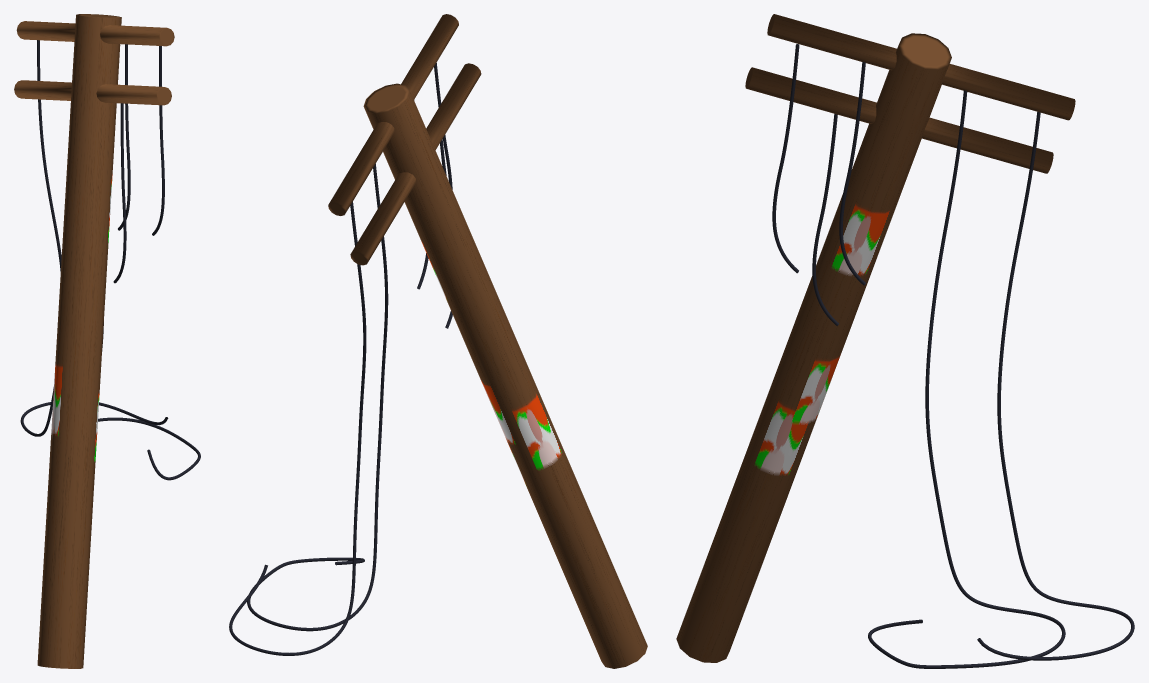
Rendered from poster_ng_kuryente.fbx.
3 views of the same model, side by side, from view 1: azimuth 30°, elevation 25°; view 2: azimuth 150°, elevation 25°; view 3: azimuth 270°, elevation 25° (orthographic). The views are drawn at different scales.
Parts seen in each view (by area): view 1: Cylinder; view 2: Cylinder; view 3: Cylinder.
Boxes of the visible parts, bbox=[...] form: Cylinder: bbox=[14, 14, 200, 668]; Cylinder: bbox=[229, 14, 647, 668]; Cylinder: bbox=[676, 14, 1134, 668].
Bounding box in the file's own units: 386 × 875 × 506.
Materials: 8 (8 with a texture image).
